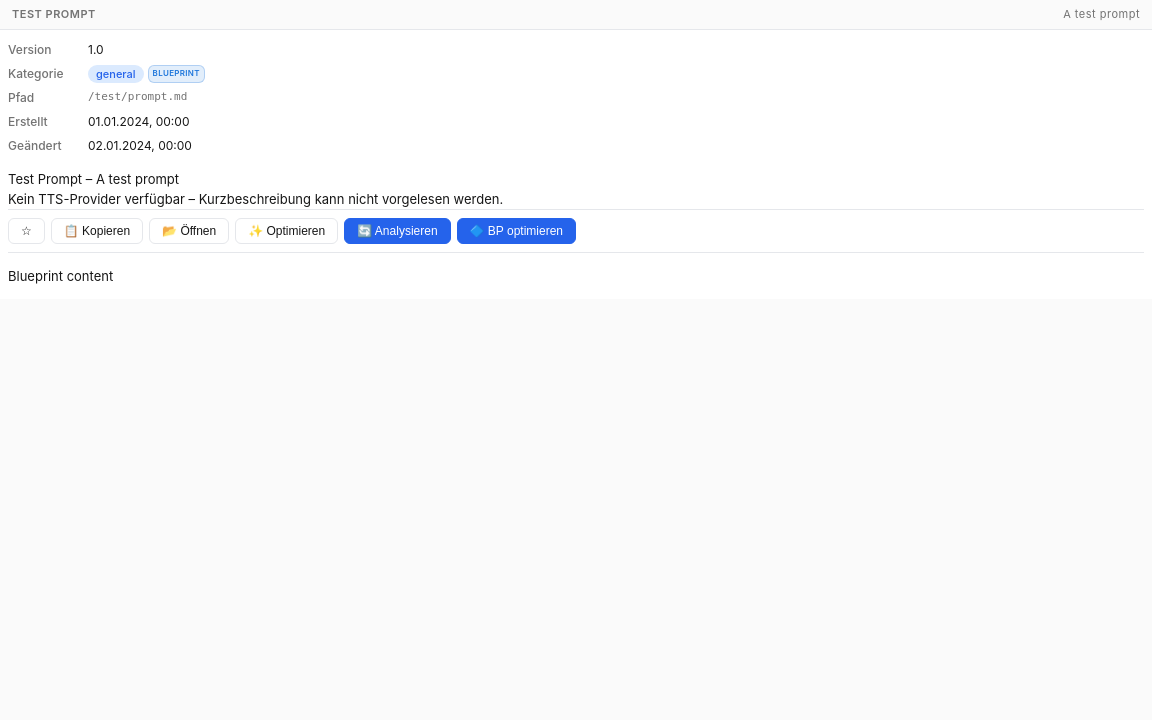
Test case: DetailsPanel — BlueprintOptimizationPanel Modal › closes BlueprintOptimizationPanel modal via close button
Note: Open the modal
Click the button "🔷 BP optimieren": (516,231) [457,218,576,244]
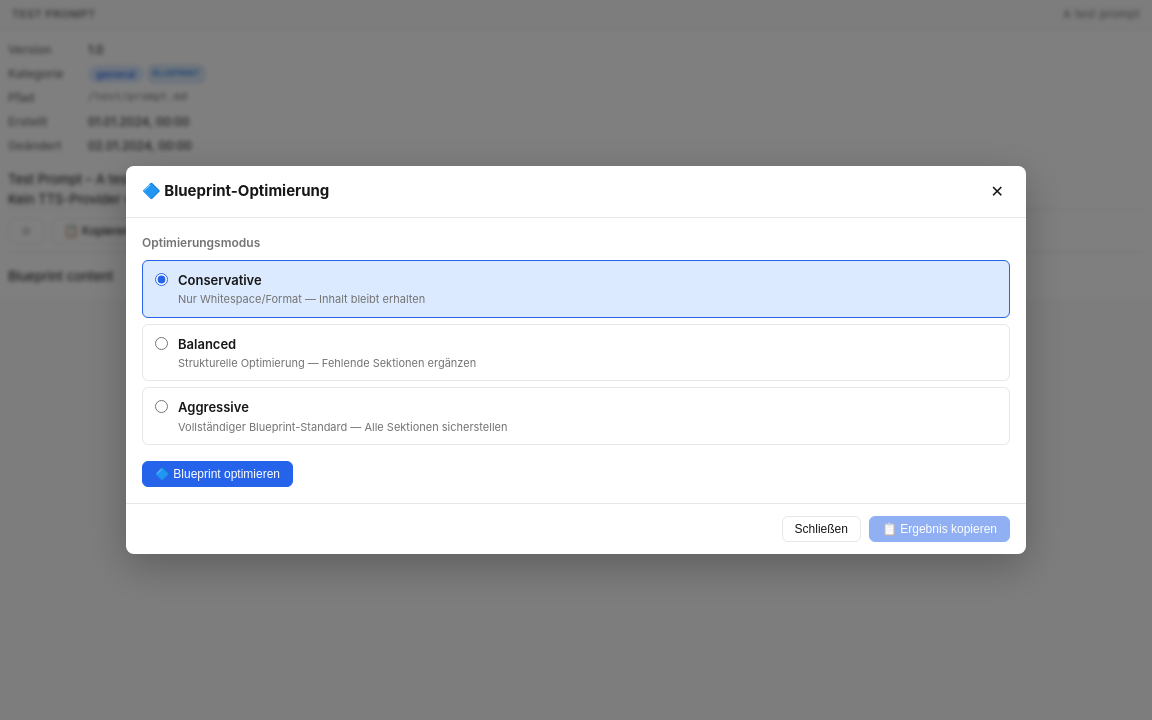
expect the heading "🔷 Blueprint-Optimierung" is shown: met, box [142,180,329,202]
Note: Click the close button (✕)
Click the button named "Schließen": (997,191) [985,178,1010,205]
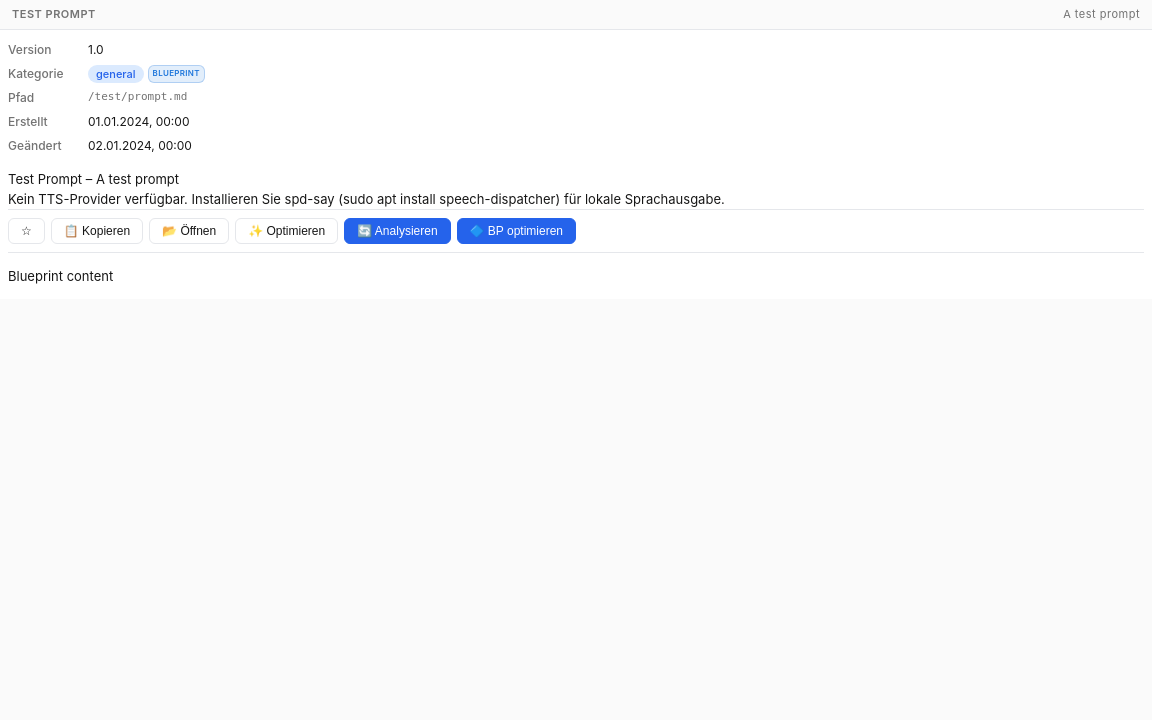
expect the heading "🔷 Blueprint-Optimierung" is gone: met
